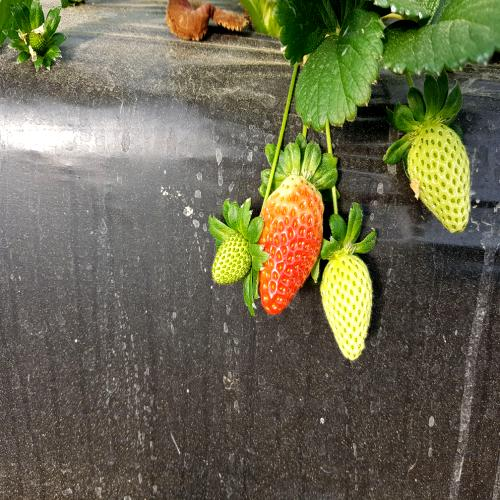ripe: (261, 161, 325, 328)
